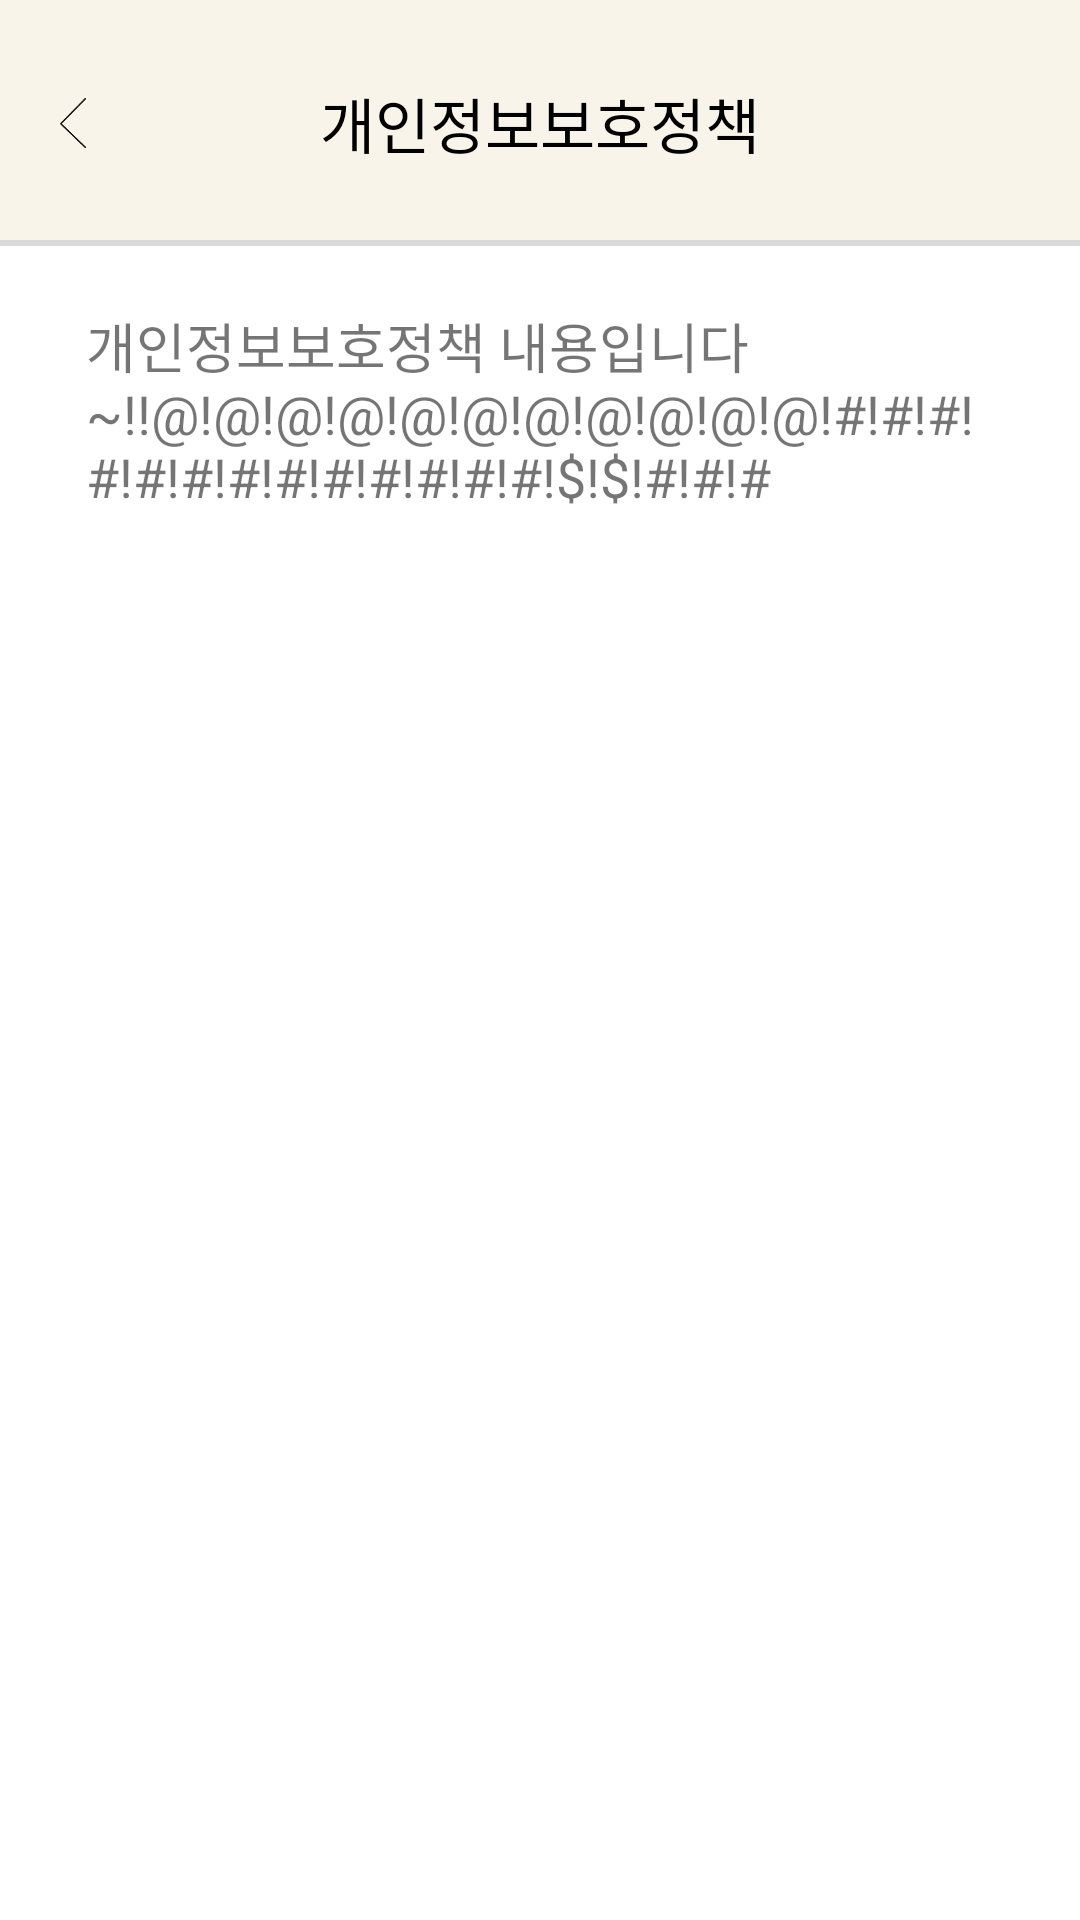

Point at icon controls on the screen. Image size 1080px x 1920px, points as (x,y).
backbtn: (73,123)
